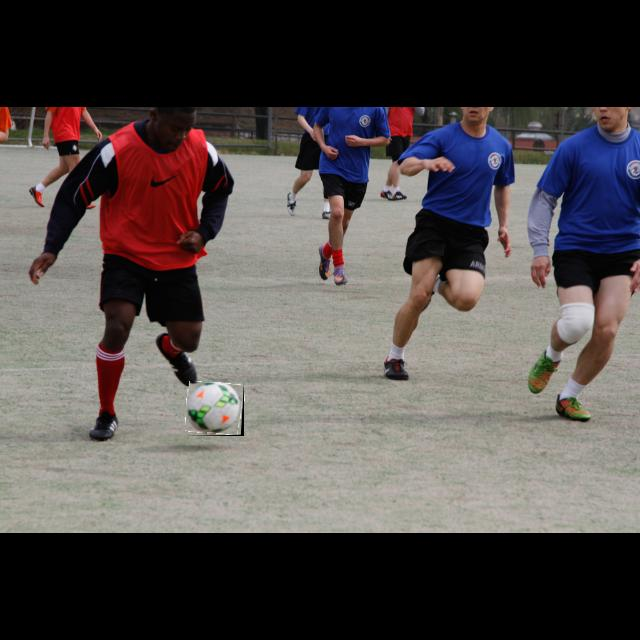Football: (186, 382, 244, 436)
